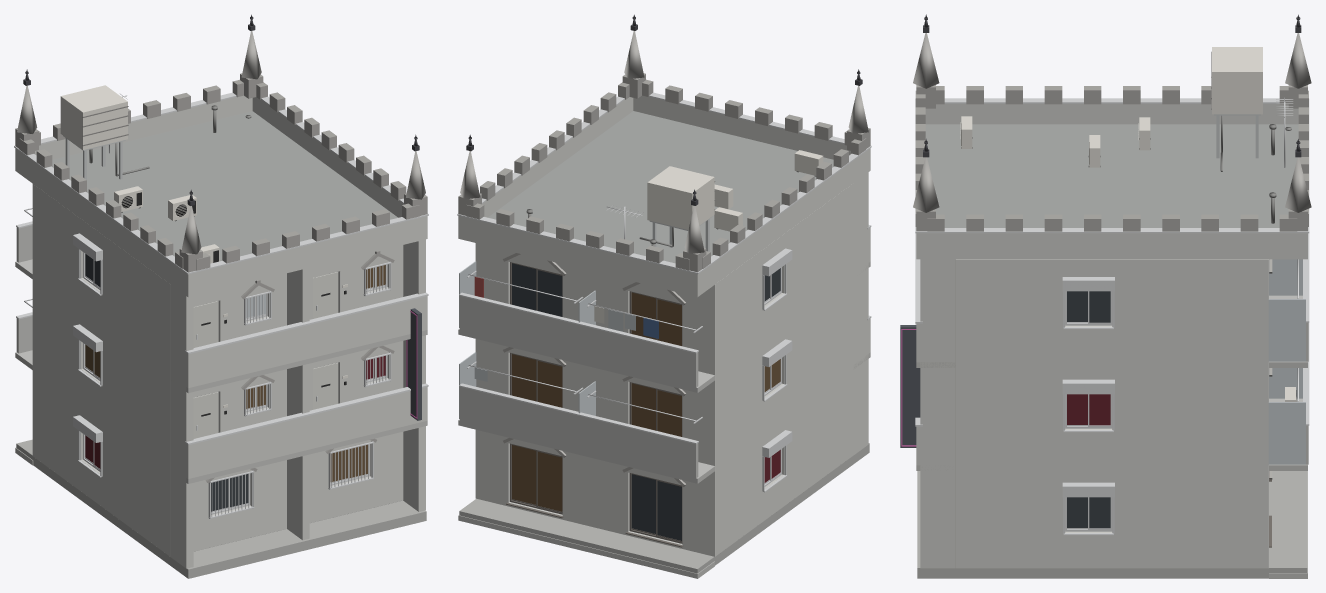
File: blk_skyline3.glb
3 views of the same model, side by side, from view 1: azimuth 30°, elevation 25°; view 2: azimuth 150°, elevation 25°; view 3: azimuth 270°, elevation 25° (orthographic). The views are drawn at different scales.
Visible parts, largest first — view 1: blk_skyline3; view 2: blk_skyline3; view 3: blk_skyline3.
Boxes of the visible parts, x1,y1,x2,y2 form: blk_skyline3: [14, 14, 428, 578]; blk_skyline3: [457, 14, 871, 578]; blk_skyline3: [900, 14, 1311, 578].
Bounding box in the file's own units: 8.46 × 12.3 × 10.5.
